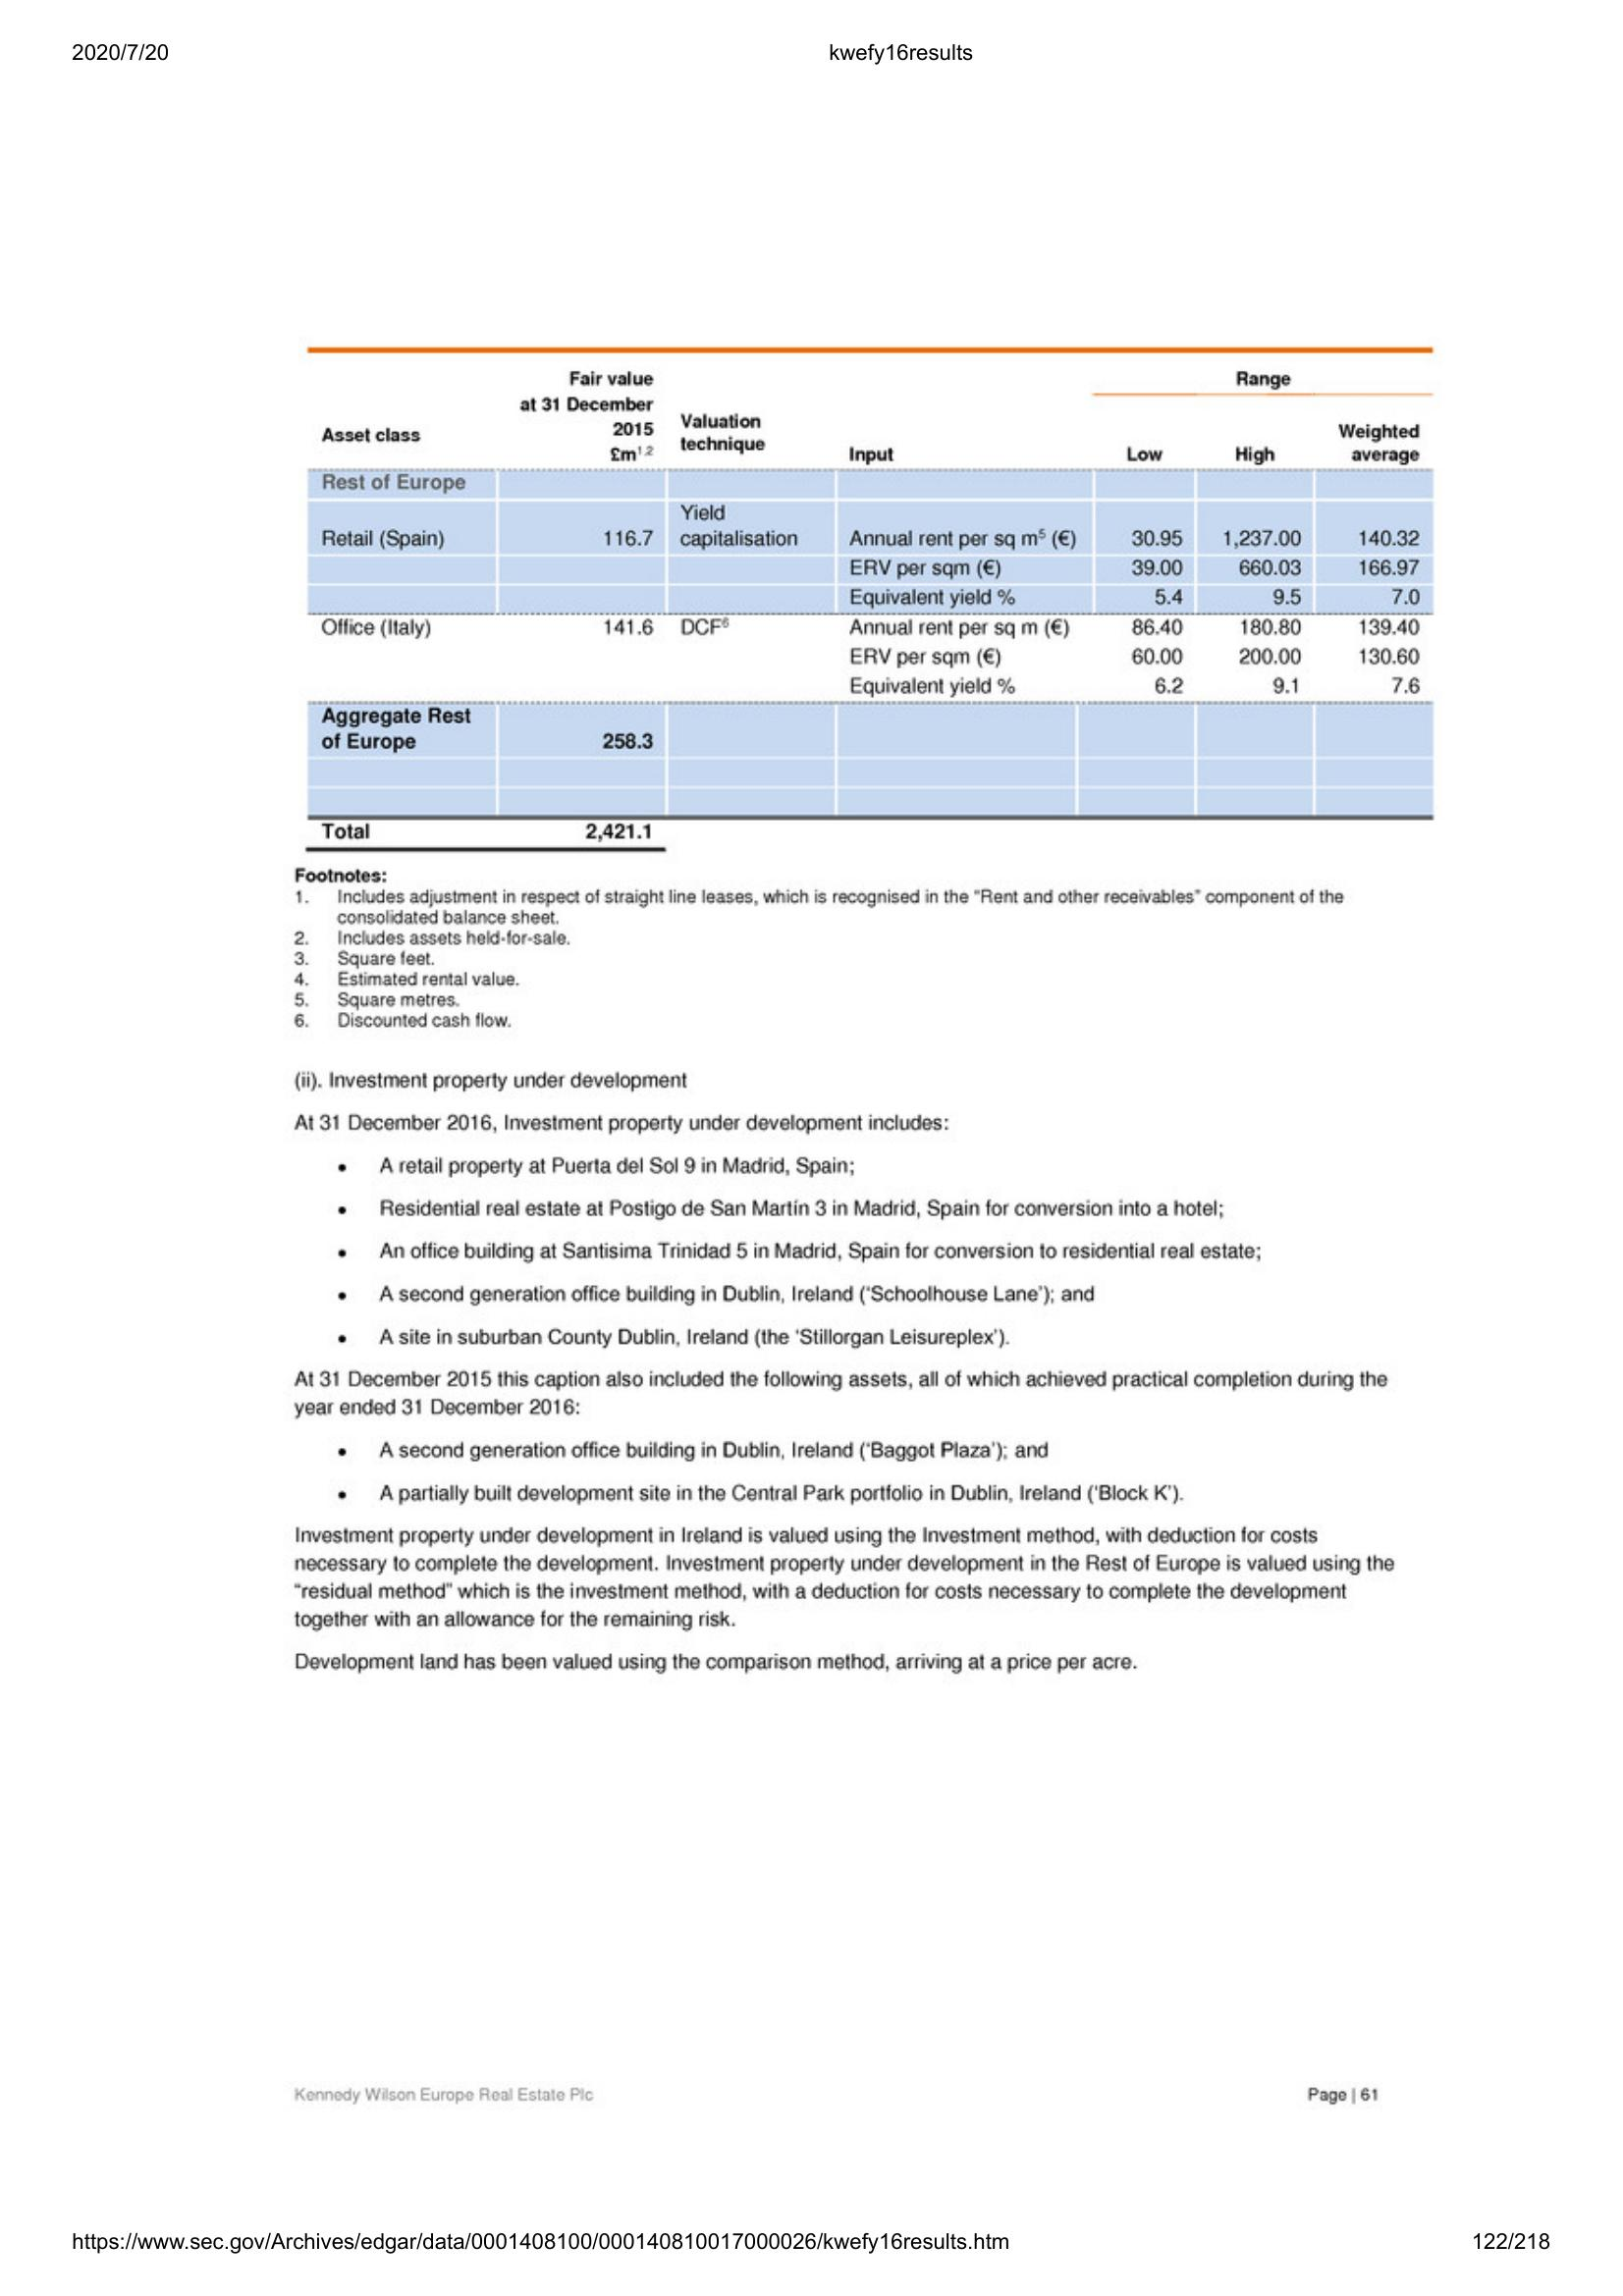table: (295, 339, 1442, 855)
